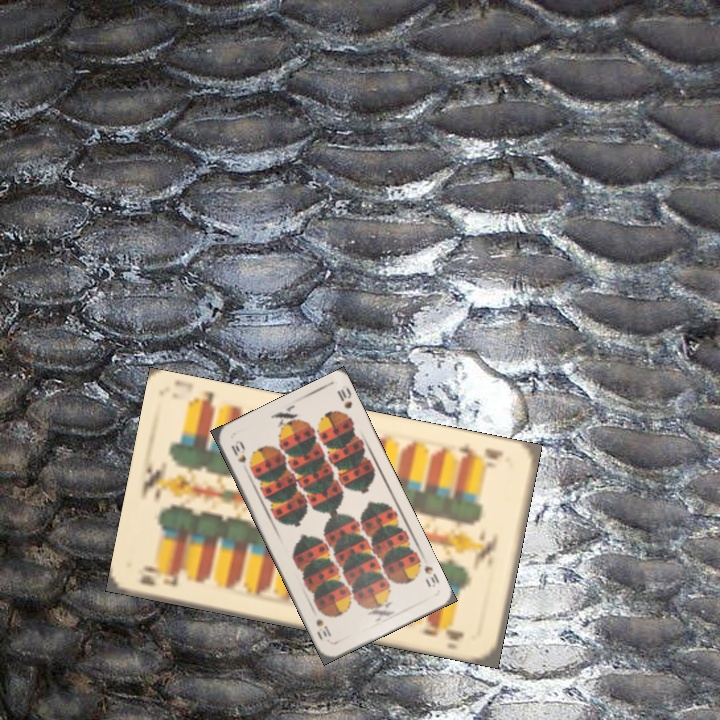E10: (454, 439, 506, 470), (135, 562, 182, 589)
S10: (420, 562, 442, 590), (227, 441, 249, 466)
